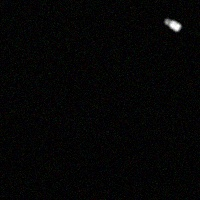chromosome: (163, 19, 180, 33)
